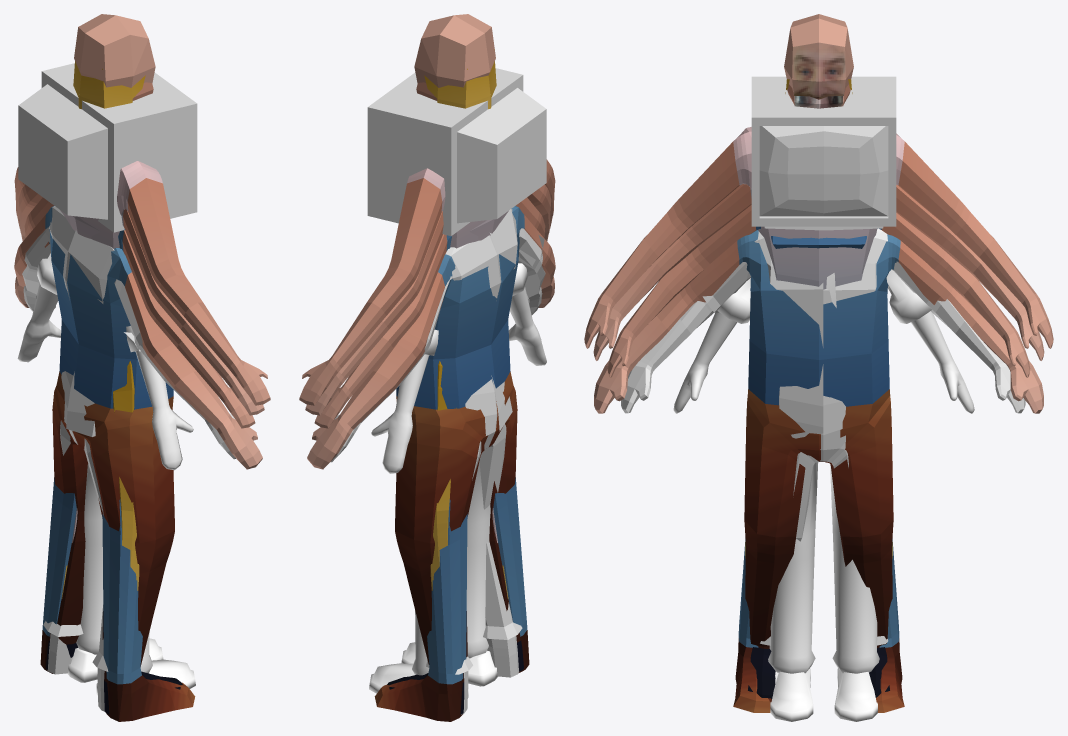
The model's file is follower_man_A.glb.
3 renders of one model, left to right at view 1: azimuth 30°, elevation 25°; view 2: azimuth 150°, elevation 25°; view 3: azimuth 270°, elevation 25°, orthographic.
Visible parts, largest first — view 1: Man_B, man_A, Cube.001, B0by_Body, woman_A, Cube.003, woman_B, Cube.004; view 2: Man_B, man_A, Cube.001, B0by_Body, Cube.003, woman_A, woman_B, Cube.004; view 3: Man_B, man_A, Cube.001, B0by_Body, woman_B, Cube.003, woman_A, Cube.004.
Part boxes in pixels (left/top/right/bottom): Man_B: left=14, top=206, right=262, bottom=714; man_A: left=14, top=14, right=270, bottom=721; Cube.001: left=18, top=63, right=197, bottom=232; B0by_Body: left=17, top=253, right=195, bottom=695; woman_A: left=18, top=49, right=264, bottom=598; Cube.003: left=22, top=206, right=235, bottom=711; woman_B: left=24, top=197, right=255, bottom=689; Cube.004: left=65, top=230, right=142, bottom=436; Man_B: left=307, top=206, right=555, bottom=714; man_A: left=299, top=14, right=555, bottom=721; Cube.001: left=367, top=68, right=546, bottom=235; B0by_Body: left=369, top=263, right=546, bottom=697; Cube.003: left=331, top=235, right=545, bottom=714; woman_A: left=305, top=49, right=551, bottom=598; woman_B: left=314, top=197, right=545, bottom=689; Cube.004: left=490, top=209, right=544, bottom=431; Man_B: left=594, top=230, right=1043, bottom=648; man_A: left=584, top=14, right=1053, bottom=712; Cube.001: left=751, top=76, right=896, bottom=226; B0by_Body: left=673, top=228, right=974, bottom=721; woman_B: left=607, top=205, right=1030, bottom=699; Cube.003: left=621, top=231, right=1025, bottom=683; woman_A: left=593, top=79, right=1044, bottom=701; Cube.004: left=702, top=231, right=823, bottom=438.
Size of the model in its own units: 0.4225 by 1.99 by 1.26.
2 materials, 1 textured.
